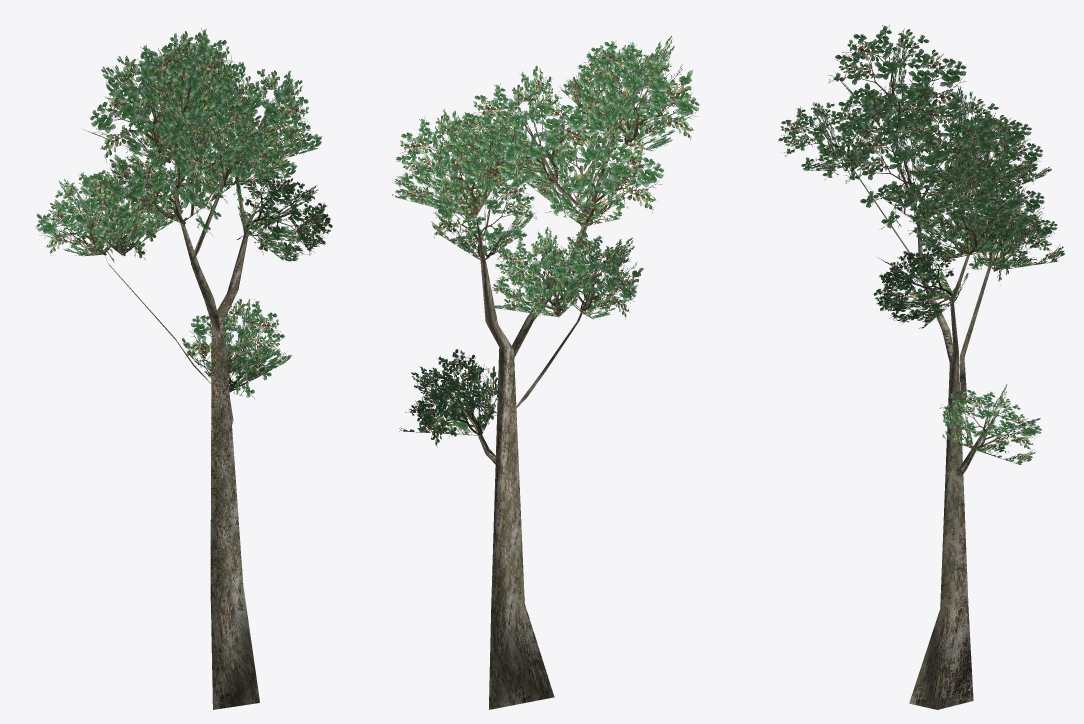
File: decd_hollytreeleaves_a2_l1.fbx
3 views of the same model, side by side, from view 1: azimuth 30°, elevation 25°; view 2: azimuth 150°, elevation 25°; view 3: azimuth 270°, elevation 25° (orthographic). The views are drawn at different scales.
Visible parts, largest first — view 1: mesh_node; view 2: mesh_node; view 3: mesh_node.
Boxes of the visible parts, x1,y1,x2,y2 form: mesh_node: (35,28,332,709); mesh_node: (392,36,699,709); mesh_node: (778,25,1064,709).
Size of the model in its own units: 7.8 by 17.84 by 7.85.
